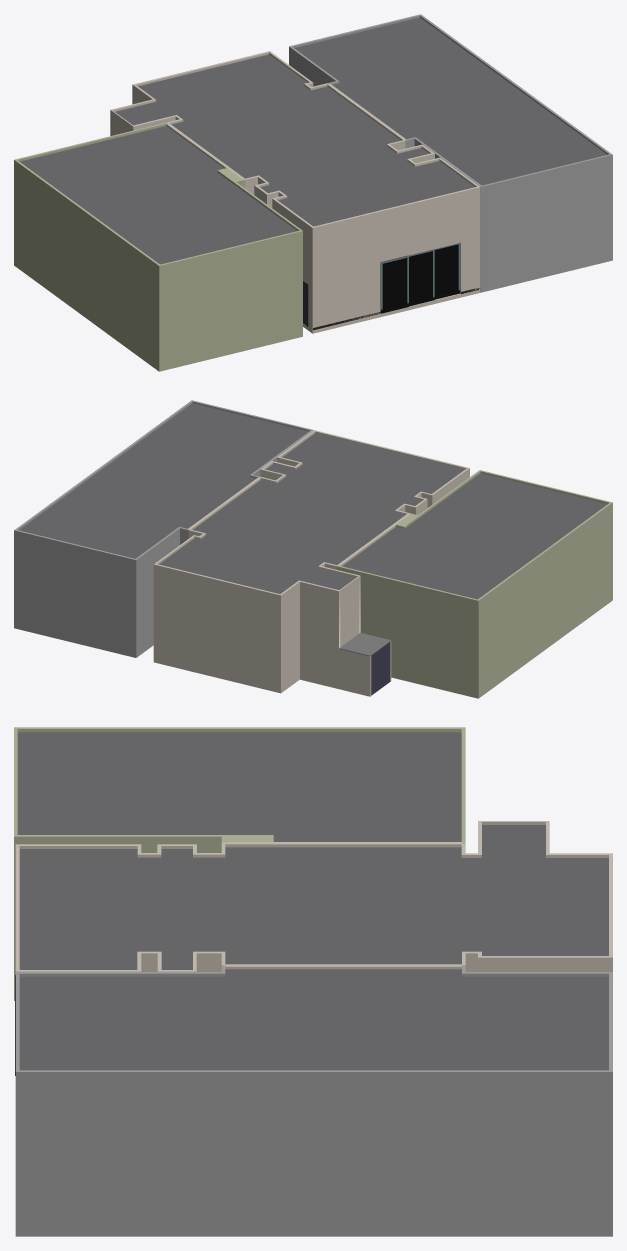
File: room.glb
3 views of the same model, one above another, from view 1: azimuth 30°, elevation 25°; view 2: azimuth 150°, elevation 25°; view 3: azimuth 270°, elevation 25° (orthographic). The views are drawn at different scales.
Visible parts, largest first — view 1: agri_wall, lobby_ceiling, garage_ceiling, agri_ceiling, garage_wall, lobby_wall_1, innovationLab_door, lobby_wall_2; view 2: agri_wall, lobby_ceiling, lobby_wall_2, garage_ceiling, agri_ceiling, garage_wall, lobby_wall_1, lobby_floor, elevator_roof; view 3: garage_wall, lobby_ceiling, garage_ceiling, agri_ceiling, agri_wall, lobby_wall_2, lobby_wall_1, lobby_wall_3, lobby_wall_4.
Boxes of the visible parts, <box> form: agri_wall: <box>14,122,302,371</box>; lobby_ceiling: <box>115,54,474,226</box>; garage_ceiling: <box>294,17,607,185</box>; agri_ceiling: <box>20,126,296,264</box>; garage_wall: <box>289,14,612,292</box>; lobby_wall_1: <box>244,140,480,333</box>; innovationLab_door: <box>380,243,460,313</box>; lobby_wall_2: <box>110,51,327,135</box>; agri_wall: <box>337,470,612,698</box>; lobby_ceiling: <box>159,433,464,593</box>; lobby_wall_2: <box>153,529,391,696</box>; garage_ceiling: <box>19,403,308,558</box>; agri_ceiling: <box>342,473,607,599</box>; garage_wall: <box>14,400,313,657</box>; lobby_wall_1: <box>260,430,469,514</box>; lobby_floor: <box>371,642,390,695</box>; elevator_roof: <box>339,632,391,656</box>; garage_wall: <box>15,965,612,1236</box>; lobby_ceiling: <box>19,825,608,969</box>; garage_ceiling: <box>19,969,608,1070</box>; agri_ceiling: <box>17,732,461,841</box>; agri_wall: <box>14,727,465,1000</box>; lobby_wall_2: <box>461,821,612,971</box>; lobby_wall_1: <box>15,843,225,971</box>; lobby_wall_3: <box>223,842,461,847</box>; lobby_wall_4: <box>225,964,461,969</box>.
Size of the model in its own units: 27.84 by 6.19 by 20.45.
Materials: 14 (1 with a texture image).
